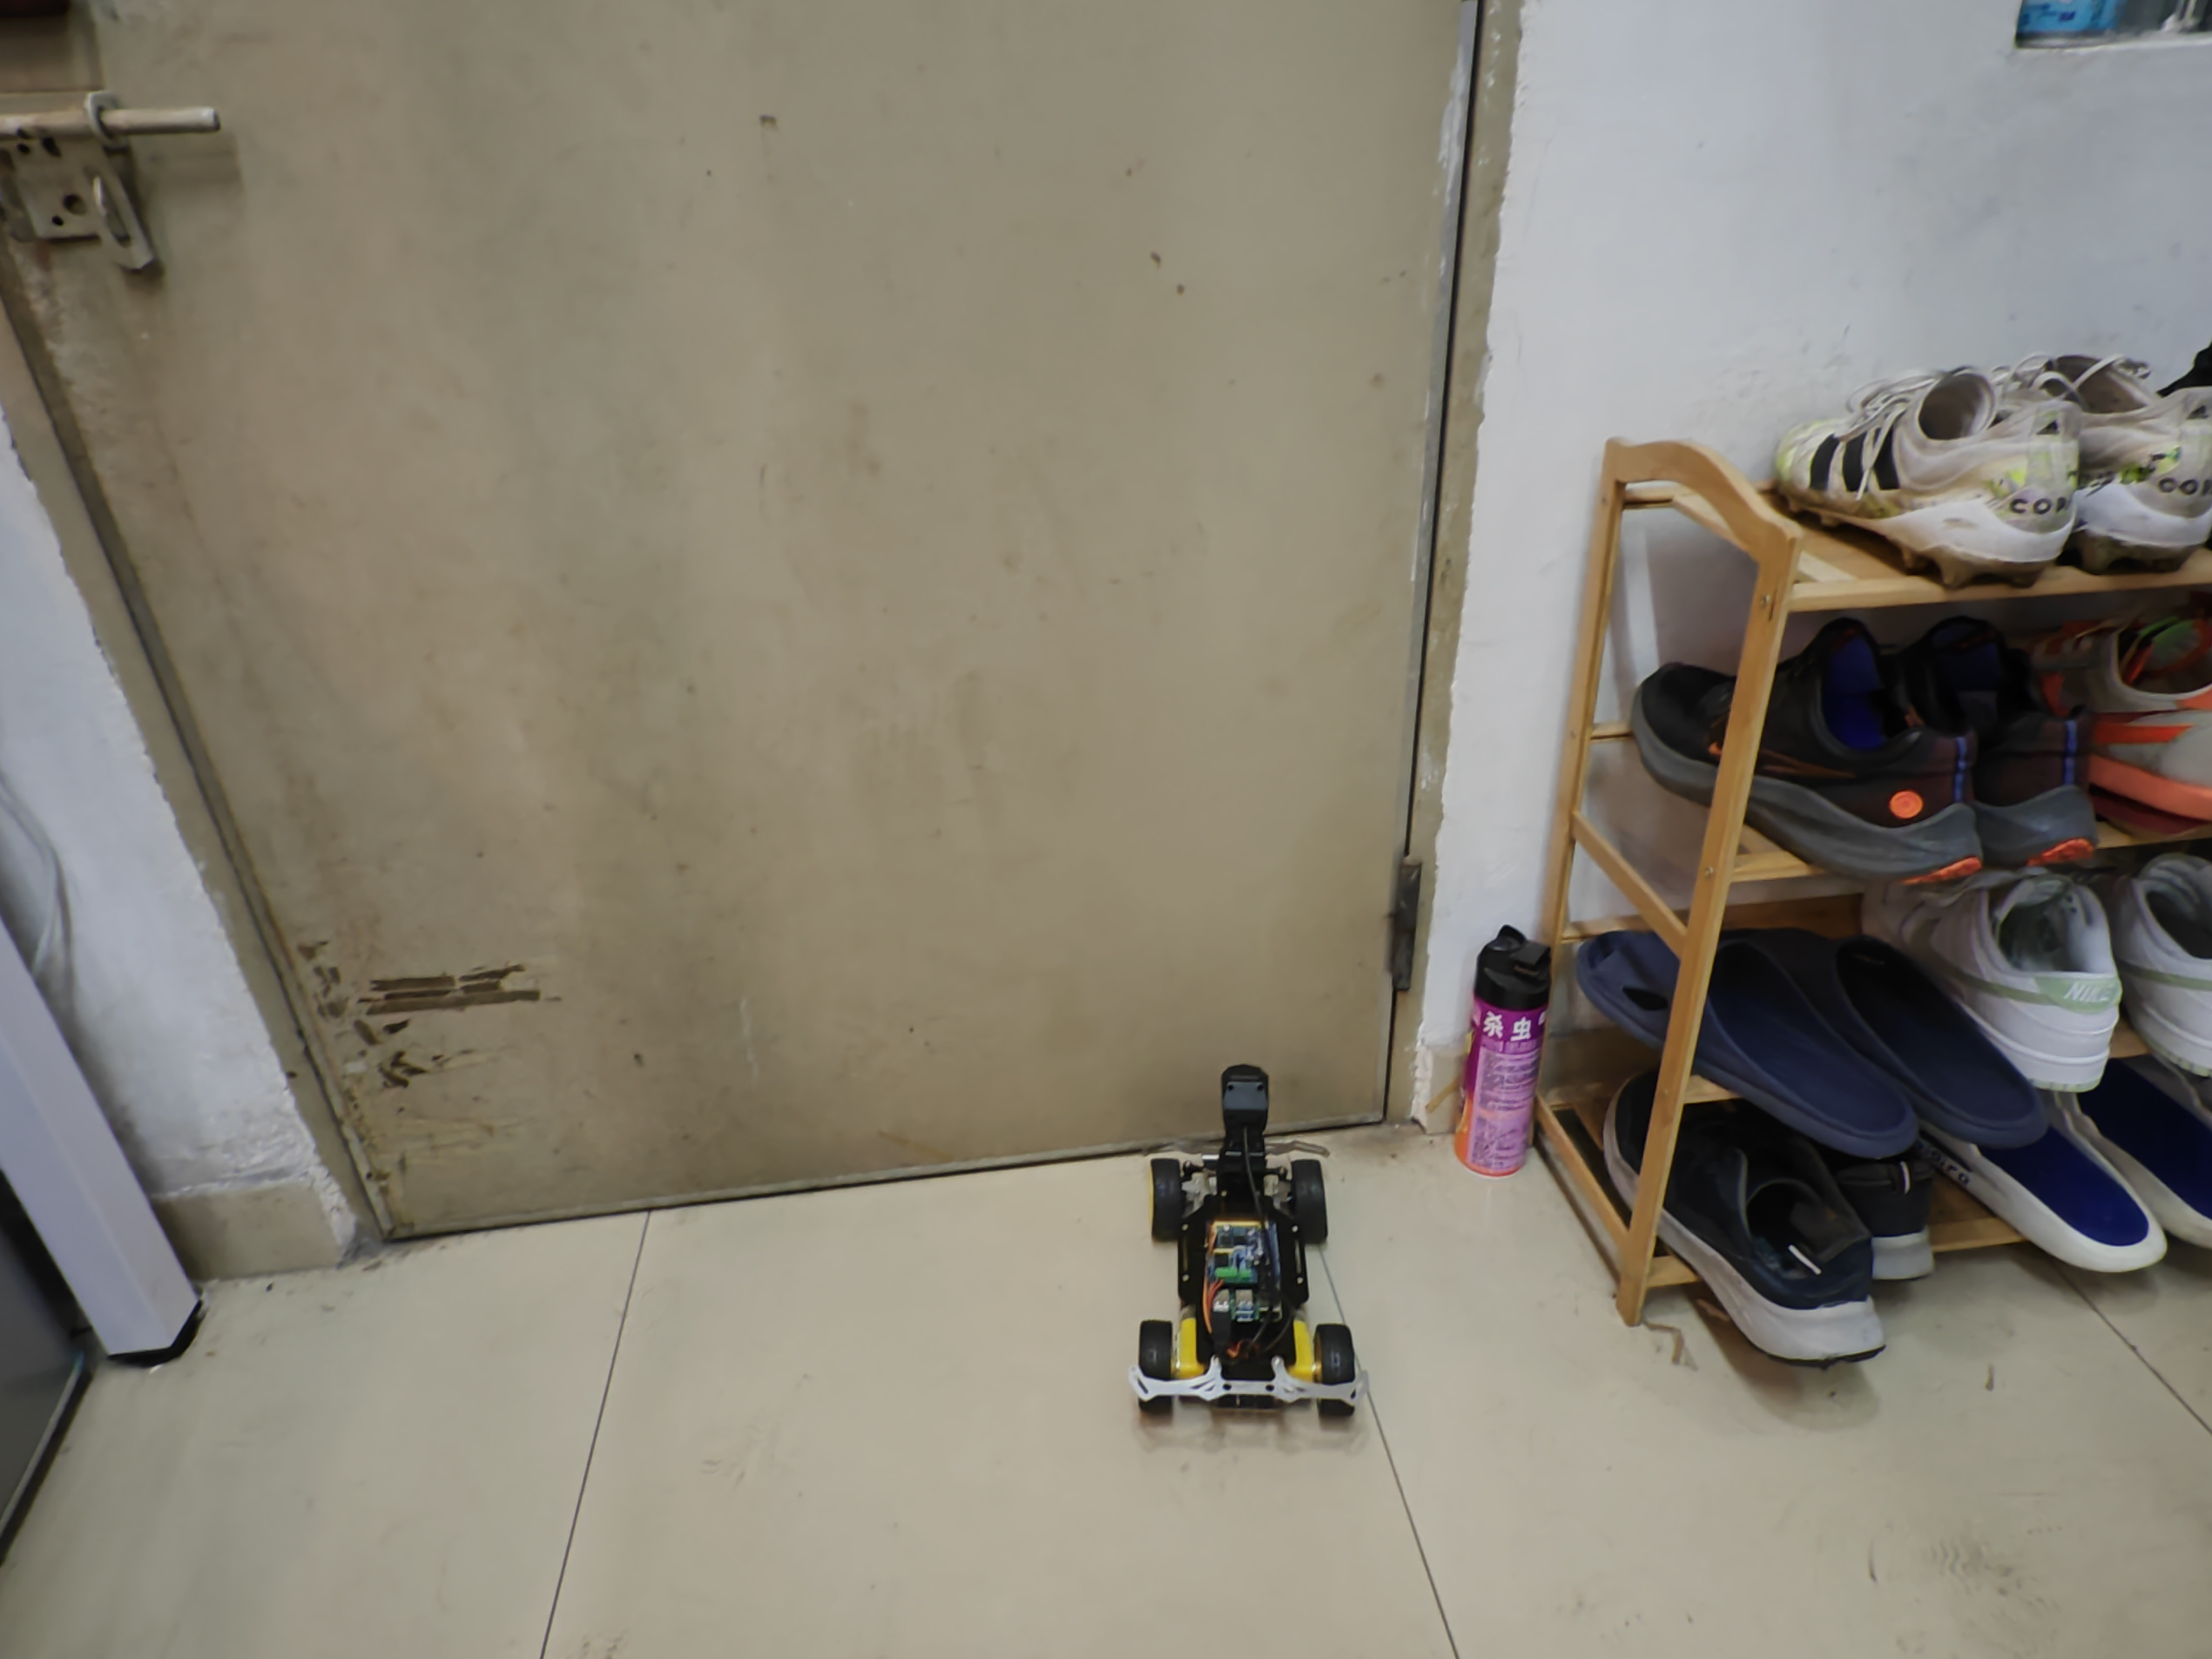car: (1116, 1044, 1359, 1445)
